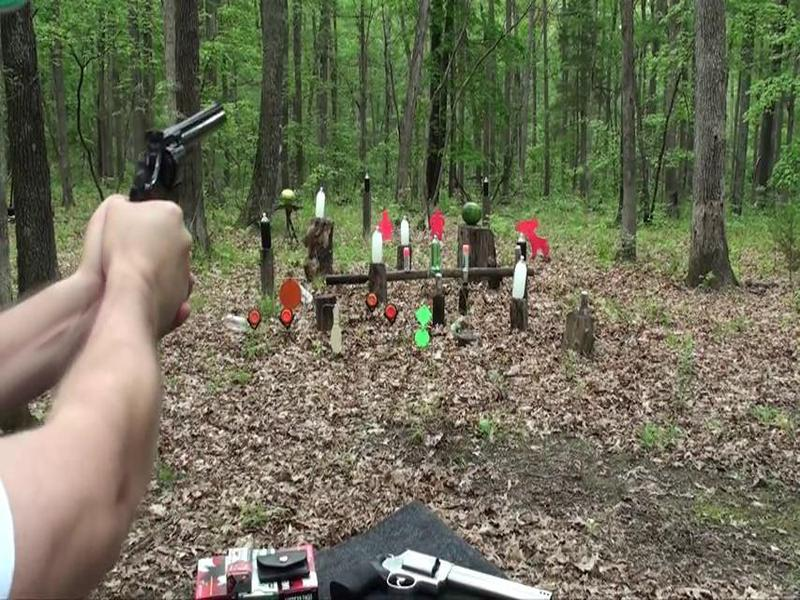Revolver: (112, 93, 236, 220)
